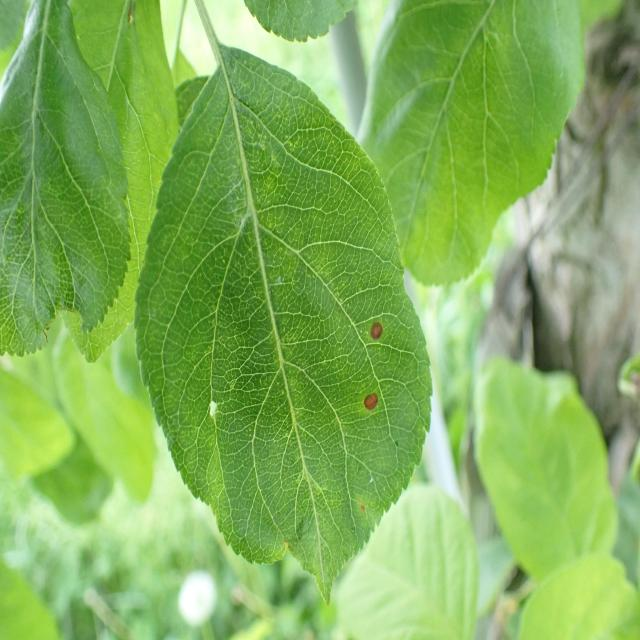Black Rot: (338, 375, 398, 439), (356, 290, 388, 350)
